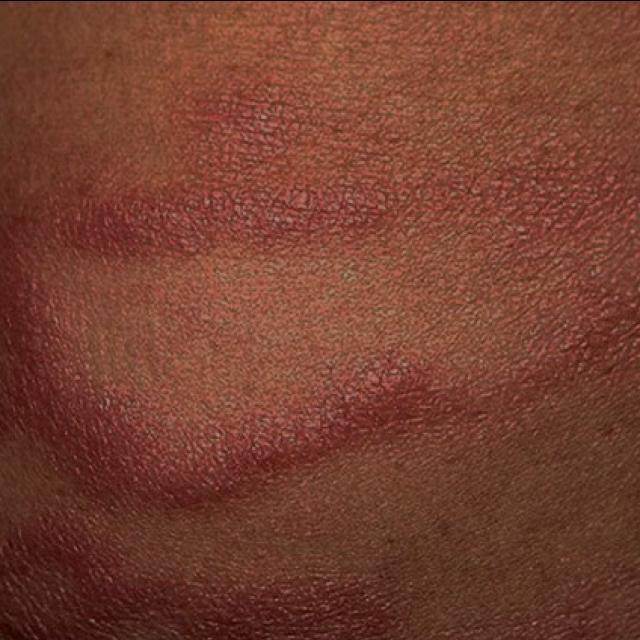Leprosy: (0, 265, 466, 515), (0, 508, 605, 640), (0, 85, 406, 258)
